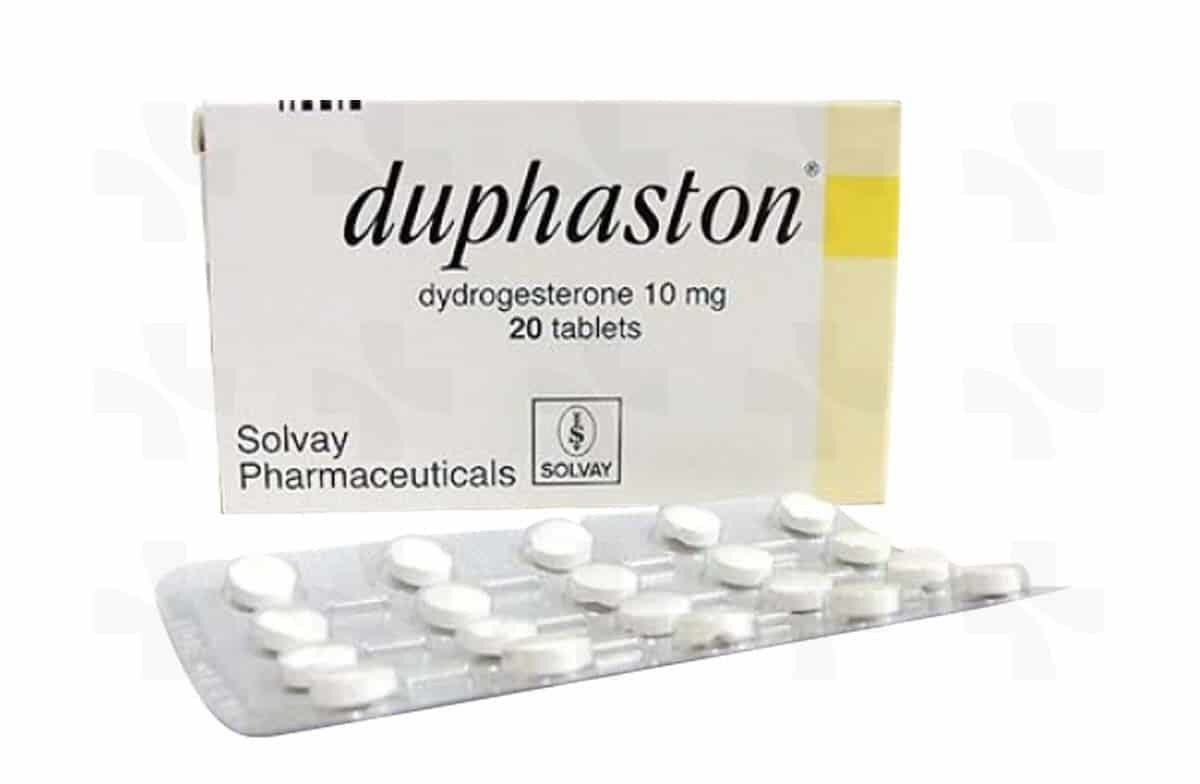Medicine: (188, 100, 898, 514)
